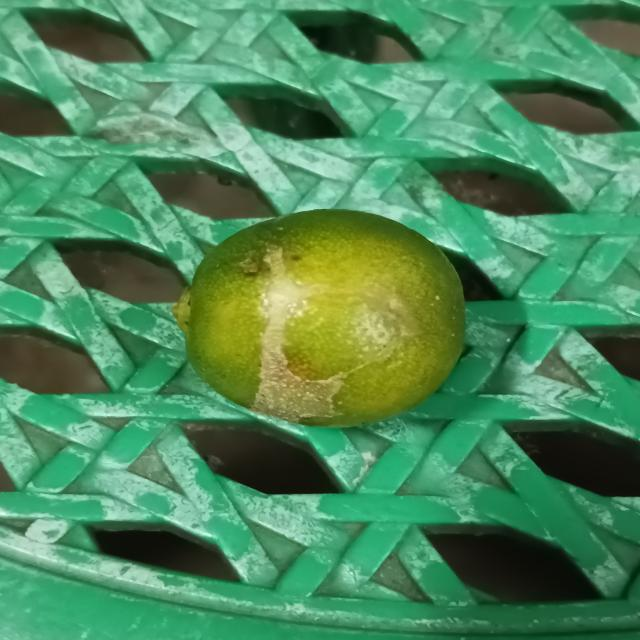thrips: (180, 205, 474, 427)
